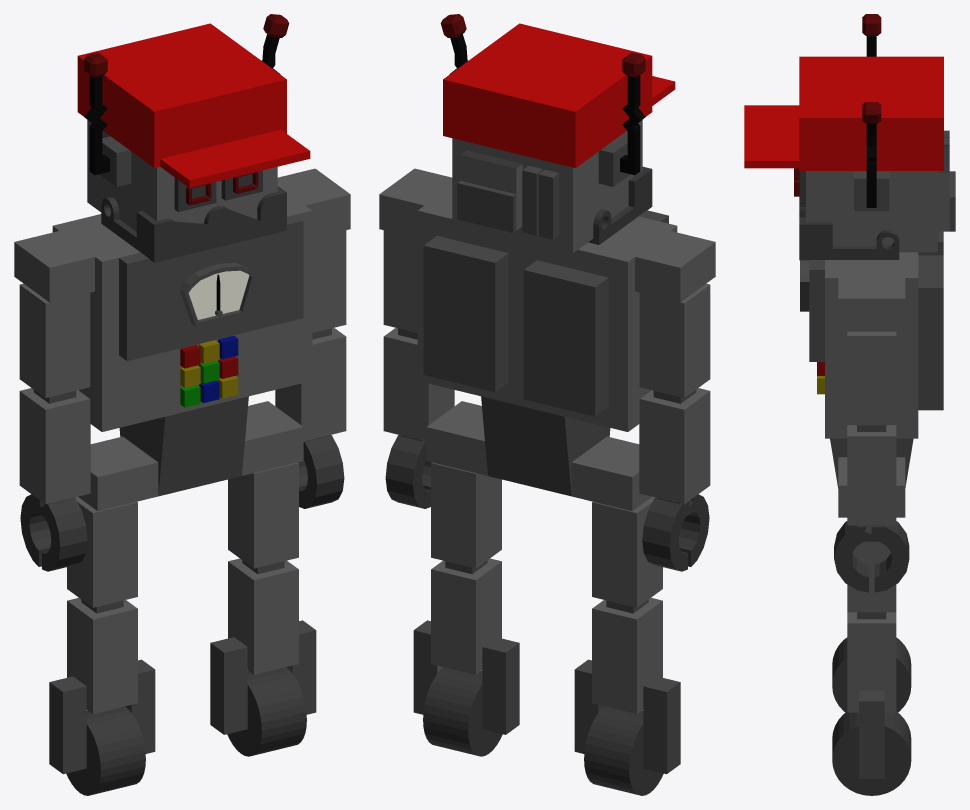
File: RobotPreRigged.fbx
3 views of the same model, side by side, from view 1: azimuth 30°, elevation 25°; view 2: azimuth 150°, elevation 25°; view 3: azimuth 270°, elevation 25° (orthographic). The views are drawn at different scales.
Visible parts, largest first — view 1: Torso, Hat, R_LL, L_LL, L_AL, L_AU, R_LU, Jaw, L_LU, Head, R_AL, RightWheel (+10 smaller); view 2: Torso, Hat, Head, R_LL, L_LL, L_AL, L_AU, R_LU, L_LU, R_AL, RightWheel, LeftWheel (+7 smaller); view 3: Torso, Hat, Head, R_LL, R_AL, R_AU, RightWheel, Jaw, Antenna, R_LU, LeftWheel, R_HR (+3 smaller).
Boxes of the visible parts, bbox=[...] form: Torso: bbox=[14, 168, 350, 510]; Hat: bbox=[77, 23, 310, 187]; R_LL: bbox=[210, 558, 316, 734]; L_LL: bbox=[49, 597, 155, 774]; L_AL: bbox=[19, 388, 90, 504]; L_AU: bbox=[19, 283, 90, 397]; R_LU: bbox=[228, 462, 298, 568]; Jaw: bbox=[101, 186, 286, 262]; L_LU: bbox=[67, 496, 137, 607]; Head: bbox=[87, 120, 277, 231]; R_AL: bbox=[275, 328, 346, 441]; RightWheel: bbox=[227, 667, 306, 756]; Torso: bbox=[379, 168, 715, 510]; Hat: bbox=[443, 23, 675, 168]; Head: bbox=[452, 120, 642, 253]; R_LL: bbox=[413, 558, 519, 734]; L_LL: bbox=[574, 597, 680, 774]; L_AL: bbox=[639, 388, 710, 504]; L_AU: bbox=[639, 283, 710, 397]; R_LU: bbox=[431, 462, 501, 568]; L_LU: bbox=[592, 496, 662, 607]; R_AL: bbox=[383, 328, 454, 441]; RightWheel: bbox=[423, 667, 502, 756]; LeftWheel: bbox=[584, 706, 663, 795]; Torso: bbox=[809, 231, 943, 517]; Hat: bbox=[744, 56, 943, 170]; Head: bbox=[806, 130, 955, 252]; R_LL: bbox=[847, 612, 896, 778]; R_AL: bbox=[847, 425, 896, 526]; R_AU: bbox=[847, 331, 896, 425]; RightWheel: bbox=[832, 711, 911, 795]; Jaw: bbox=[799, 197, 899, 260]; Antenna: bbox=[854, 36, 889, 210]; R_LU: bbox=[847, 541, 896, 612]; LeftWheel: bbox=[832, 637, 911, 712]; R_HR: bbox=[871, 521, 909, 592].
Size of the model in its own units: 89.96 by 209 by 57.89.
